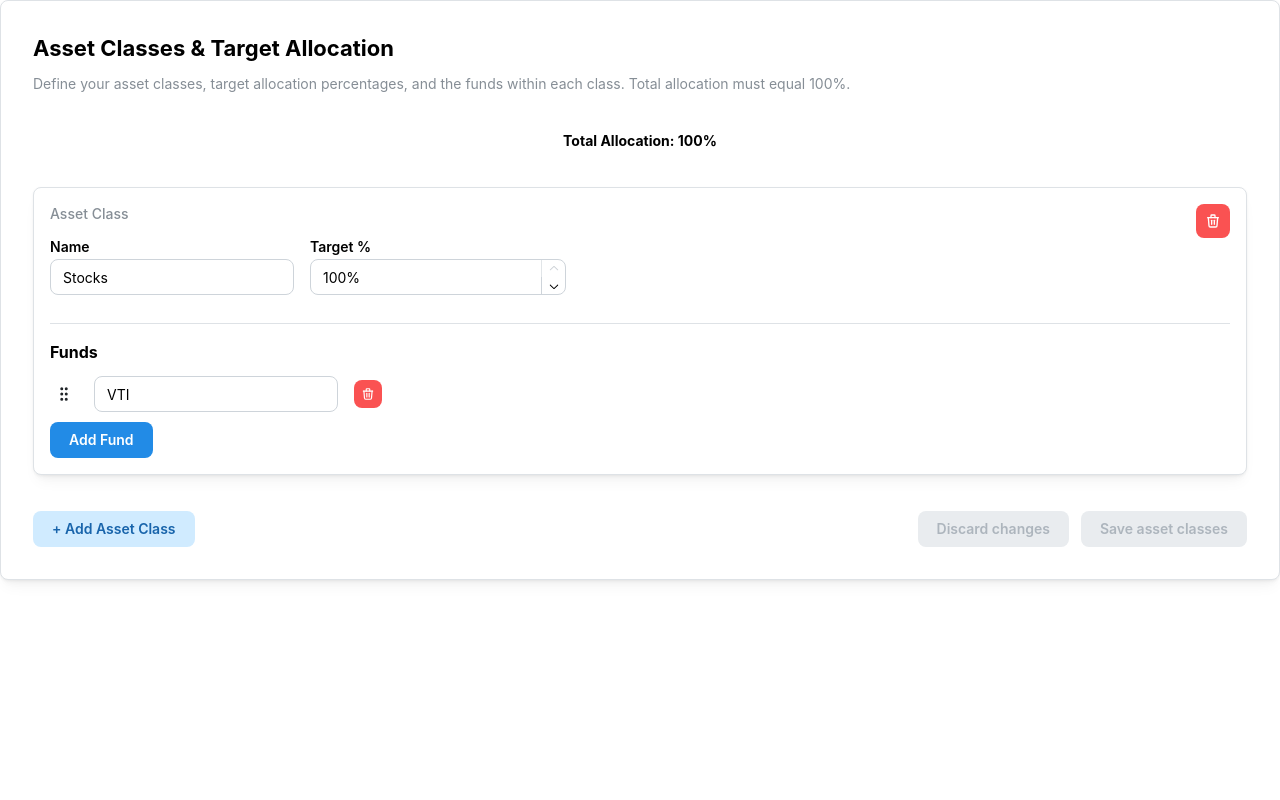
Test case: AssetClassSettings › rejects a blank allocation
Clear the field labelled "Target %" at (438, 277), box top-left (310, 259), bottom-right (566, 295)
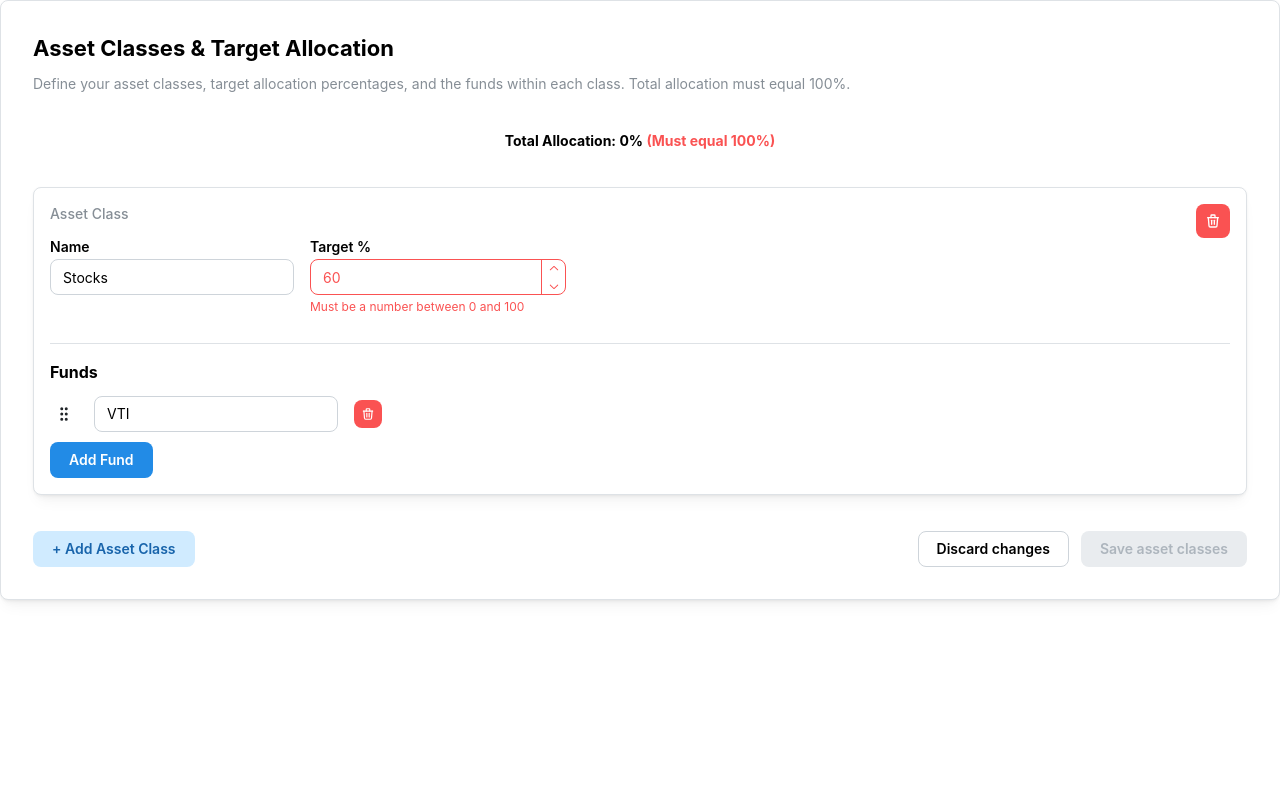
Expected: the button "Save asset classes" is disabled, top-left (1081, 531), bottom-right (1247, 567)
Expected: the text "Must be a number between 0 and 100" is shown, top-left (310, 299), bottom-right (524, 314)
